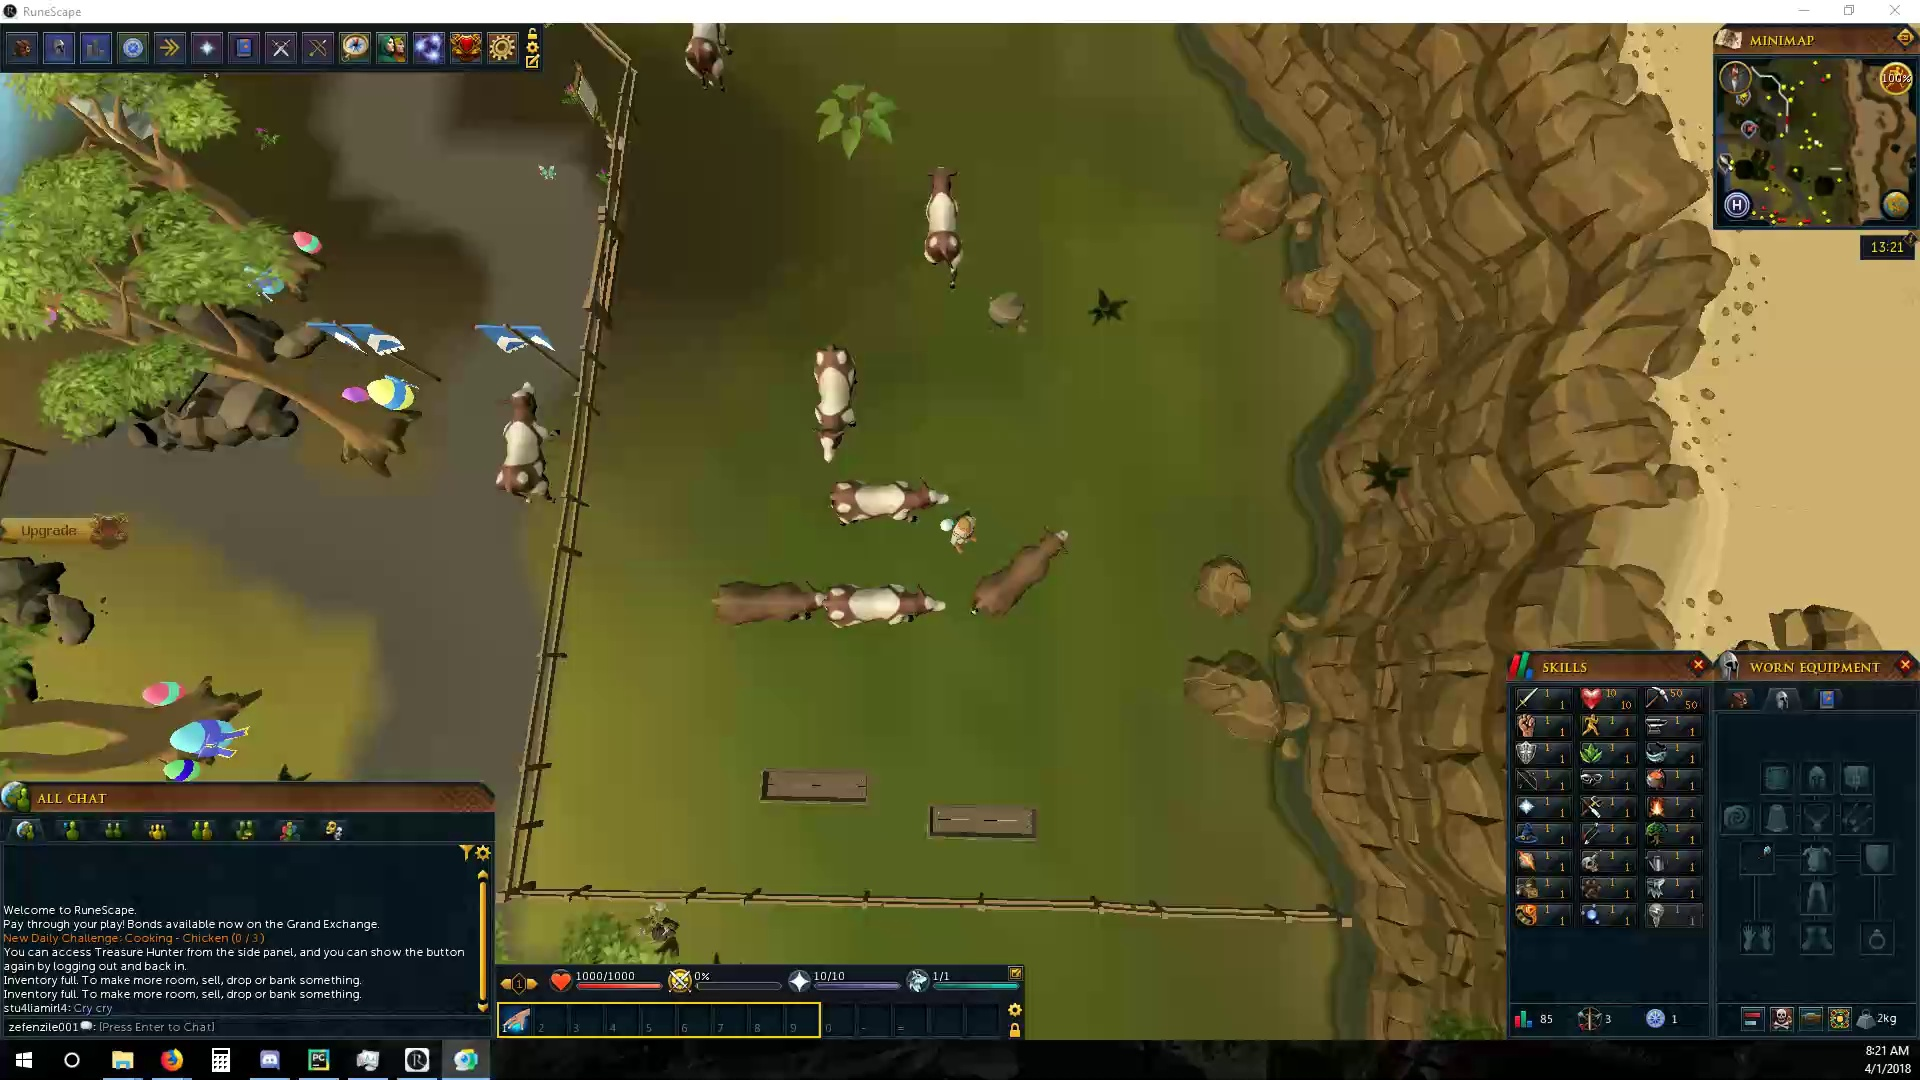cow: (971, 524, 1071, 622), (492, 380, 564, 501), (825, 471, 953, 531), (804, 343, 858, 465), (918, 161, 969, 287), (822, 582, 948, 632), (708, 580, 824, 628), (679, 21, 736, 95)
